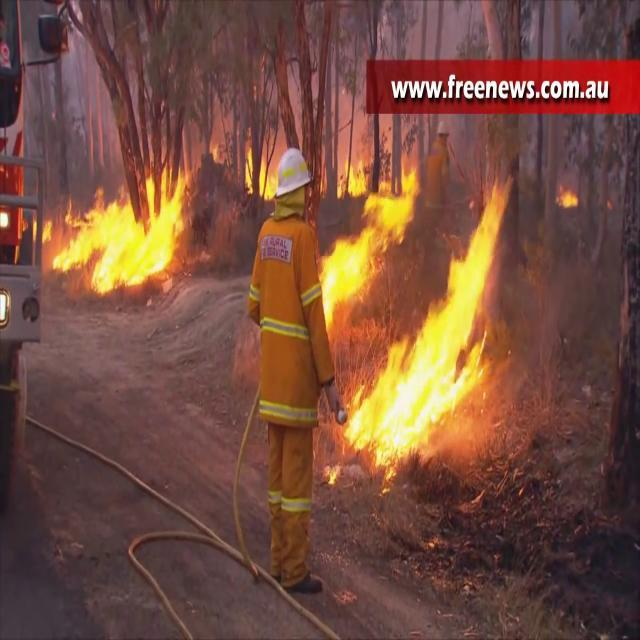Fire: (320, 159, 514, 468), (54, 162, 196, 298)
